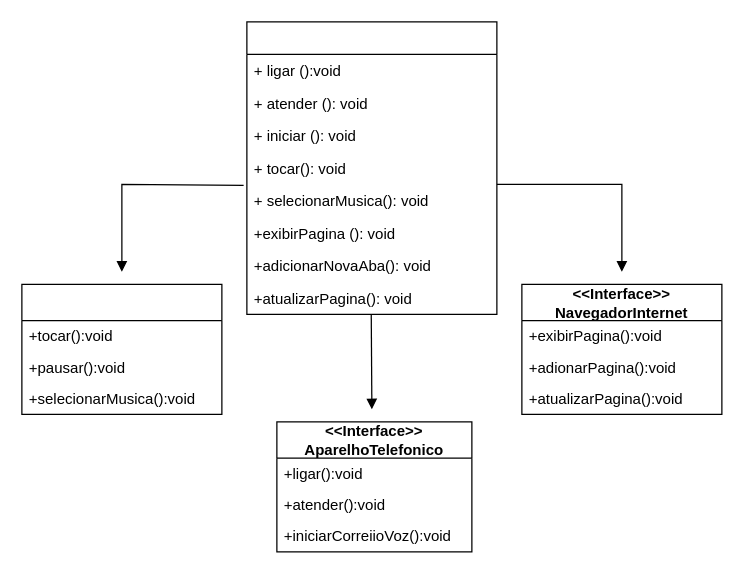
This 744x574 diagram has some shape labels left out. Each missing label, with the box of its shape:
<<Interface>> ReprodutorMusical: (21, 283, 222, 414)
Iphone: (246, 21, 497, 314)
